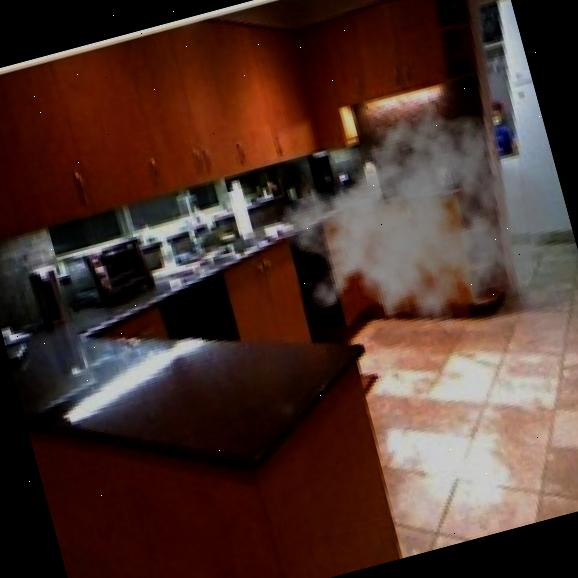smoke: (256, 72, 578, 379)
